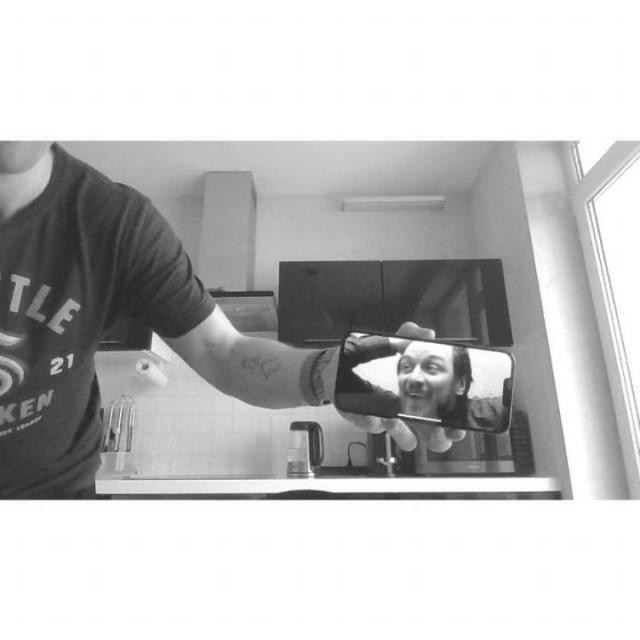fake: (328, 326, 520, 434)
